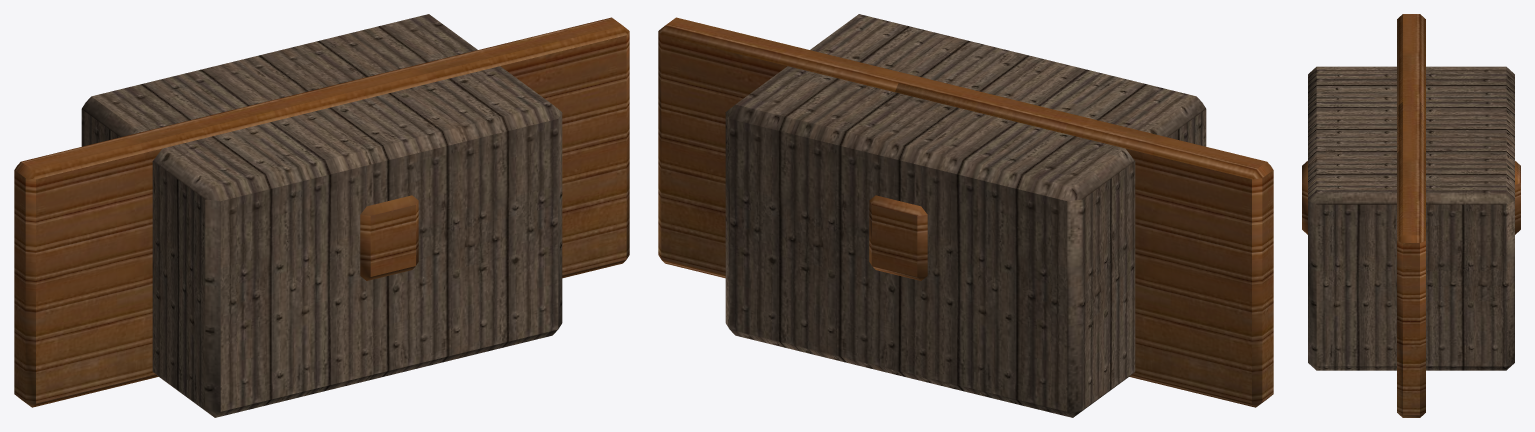
The model's file is prop_chest.glb.
The picture shows the model from 3 angles, left to right: view 1: azimuth 30°, elevation 25°; view 2: azimuth 150°, elevation 25°; view 3: azimuth 270°, elevation 25°; orthographic projection. The views are drawn at different scales.
Visible parts, largest first — view 1: PROP_Chest; view 2: PROP_Chest; view 3: PROP_Chest.
Boxes of the visible parts, x1,y1,x2,y2 form: PROP_Chest: (14, 14, 629, 417); PROP_Chest: (658, 14, 1273, 417); PROP_Chest: (1302, 14, 1520, 417).
Bounding box in the file's own units: 1.86 × 0.7 × 0.76.
2 materials, 2 textured.
